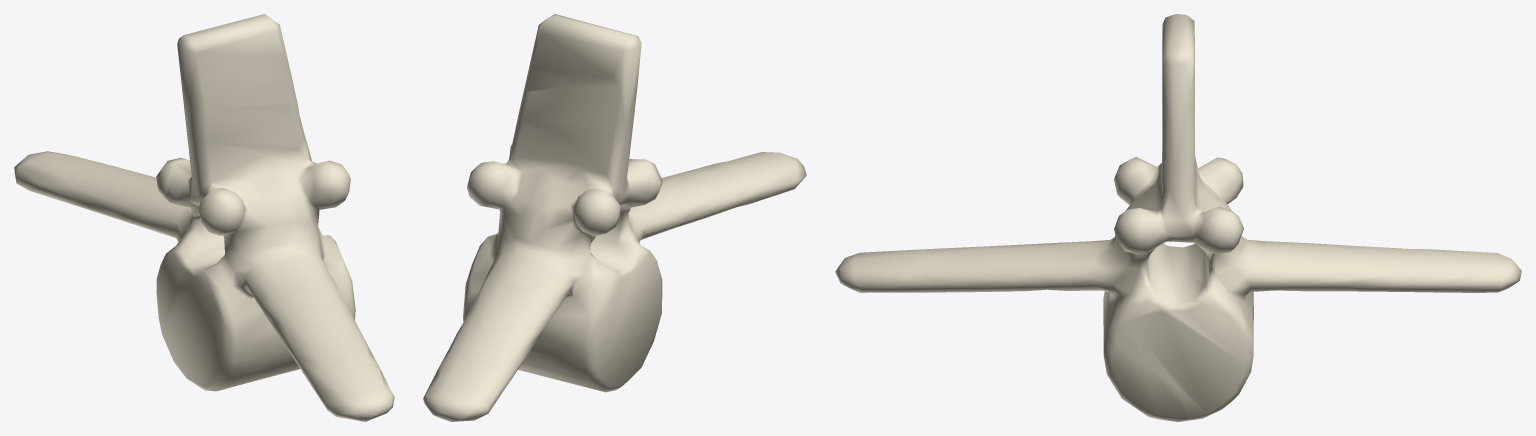
Rendered from lumbar_3.glb.
3 views of the same model, side by side, from view 1: azimuth 30°, elevation 25°; view 2: azimuth 150°, elevation 25°; view 3: azimuth 270°, elevation 25° (orthographic).
Parts seen in each view (by area): view 1: geometry_0; view 2: geometry_0; view 3: geometry_0.
Boxes of the visible parts, x1=… form: geometry_0: x1=14, y1=14, x2=394, y2=421; geometry_0: x1=423, y1=14, x2=806, y2=421; geometry_0: x1=835, y1=14, x2=1521, y2=421.
Bounding box in the file's own units: 0.15 × 0.3291 × 0.5857.
